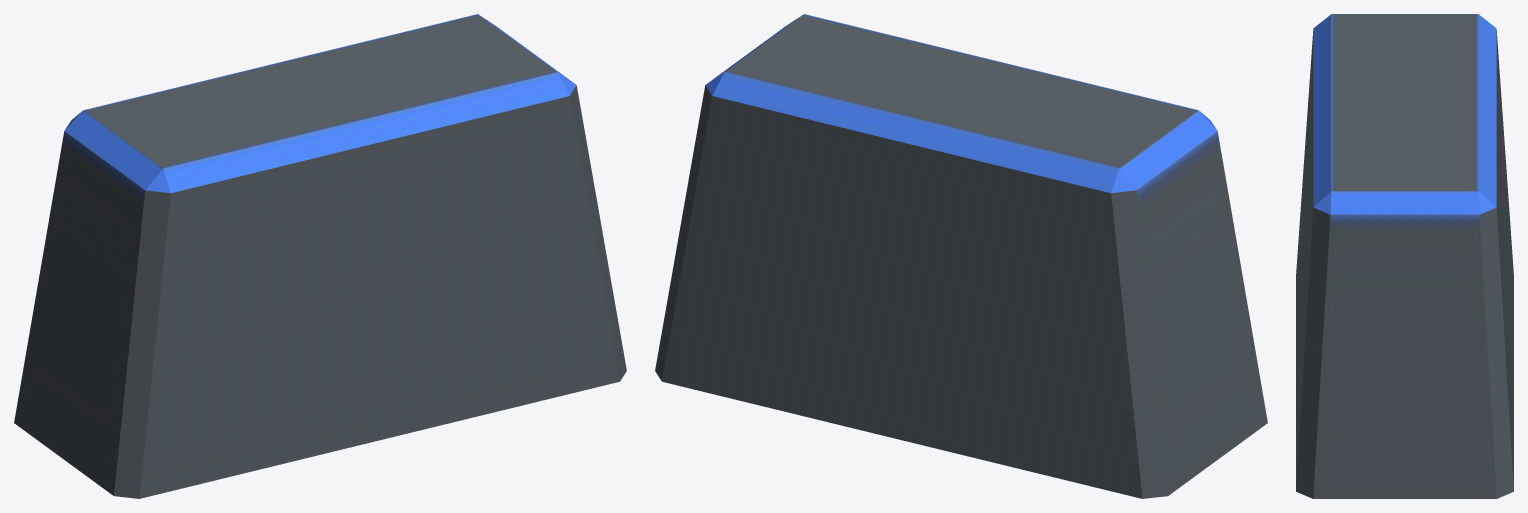
File: potar.gltf
3 renders of one model, left to right at view 1: azimuth 30°, elevation 25°; view 2: azimuth 150°, elevation 25°; view 3: azimuth 270°, elevation 25°, orthographic. The views are drawn at different scales.
Visible parts, largest first — view 1: Cube; view 2: Cube; view 3: Cube.
Part boxes in pixels (x1=…): Cube: x1=14, y1=14, x2=626, y2=498; Cube: x1=655, y1=14, x2=1267, y2=498; Cube: x1=1296, y1=14, x2=1513, y2=498.
Size of the model in its own units: 22.31 by 12.7 by 8.92.
Materials: 1 (1 with a texture image).
